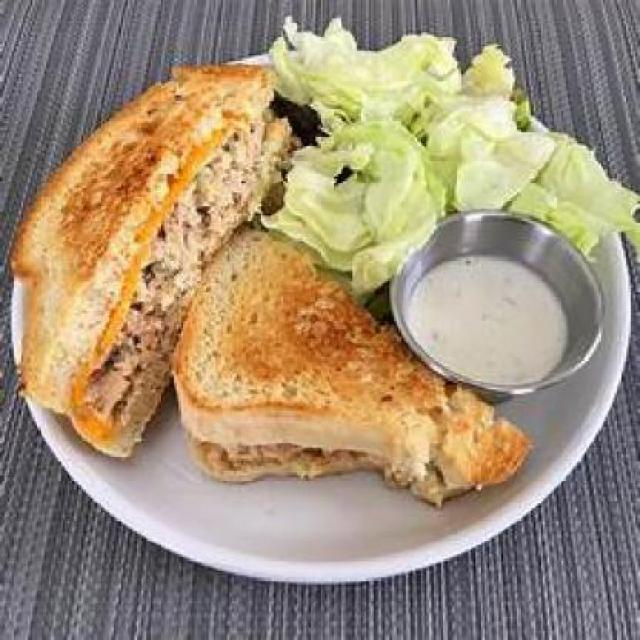clam chowder: (403, 198, 594, 400)
club sandwich: (4, 55, 384, 563)
